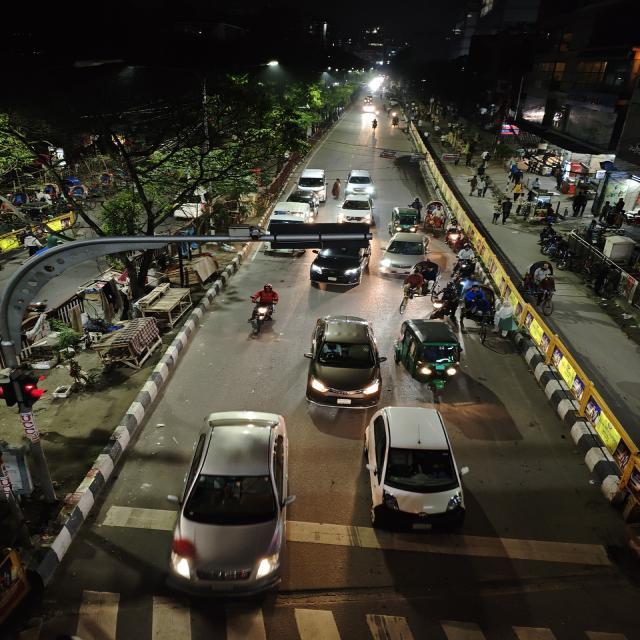bicycle: (400, 264, 438, 304)
car: (175, 408, 298, 600), (361, 404, 467, 528), (301, 310, 385, 418), (307, 252, 371, 292), (378, 229, 431, 276), (267, 197, 318, 225), (295, 165, 328, 195), (340, 195, 374, 223), (346, 167, 375, 197), (361, 103, 376, 113)
cng: (398, 316, 466, 394), (388, 202, 421, 234)
motorcycle: (244, 282, 281, 338), (452, 240, 483, 280), (434, 280, 460, 319), (442, 219, 467, 249), (331, 177, 342, 199), (371, 117, 380, 133)
pedestrian: (472, 173, 489, 197), (491, 198, 506, 225), (499, 198, 512, 225), (468, 176, 479, 197)
rickshaw: (516, 256, 568, 314), (425, 198, 448, 234), (391, 116, 402, 130)
